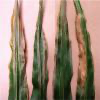Corn leaf blight: (74, 0, 98, 99), (6, 0, 29, 99), (52, 0, 73, 100), (30, 0, 50, 99)
